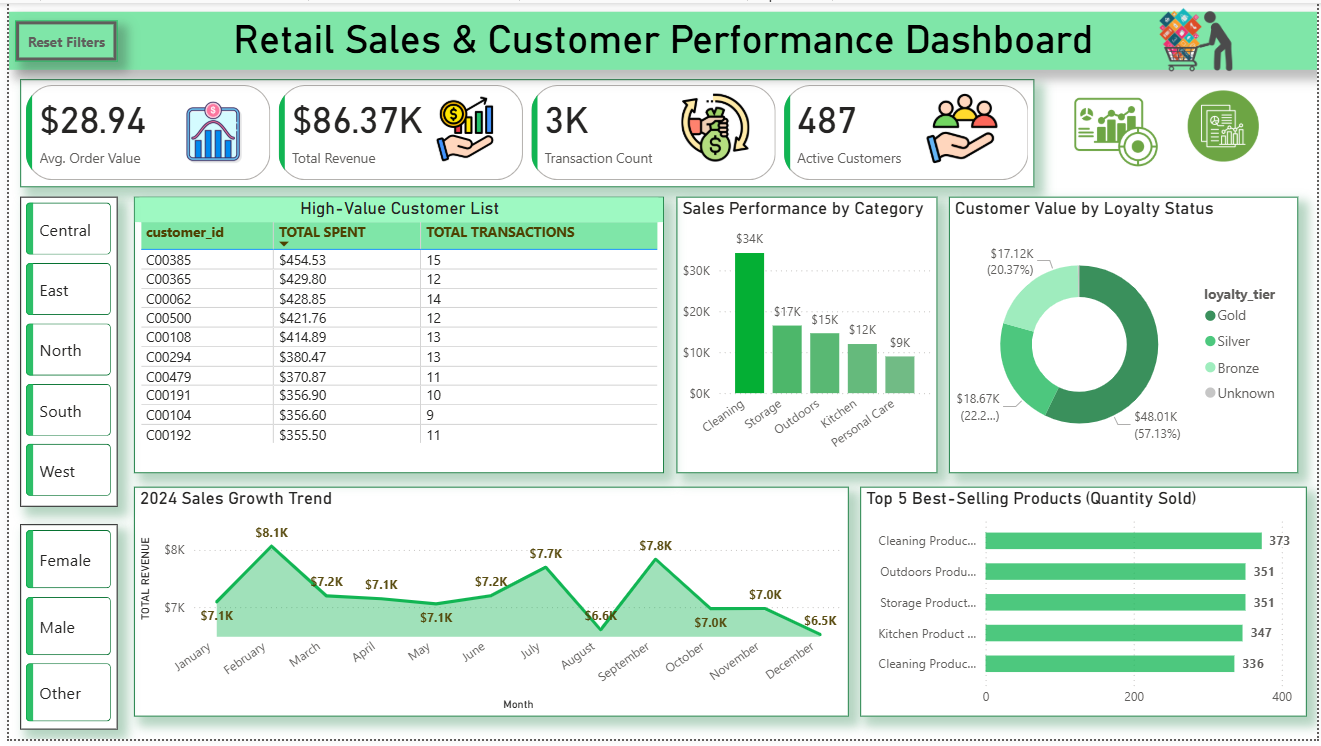

The page's visual inventory and layout, read from the dashboard file:
{"tool":"powerbi","page":{"name":"Dashboard","canvas":[1280,720],"ordinal":0},"visuals":[{"type":"cardVisual","fields":{"Data":["CALENDER.AVERAGE_ORDER_VALUE","CALENDER.TOTAL REVENUE","CALENDER.TOTAL_TRANSACTIONS","CALENDER.TOTAL_CUSTOMER"]},"box":[11.4,74,992.4,105.4],"z":0},{"type":"lineChart","title":"2024 Sales Growth Trend ","fields":{"Category":["CALENDER.Date.Variation.Date Hierarchy.Month"],"Y":["CALENDER.TOTAL REVENUE"]},"box":[122.4,472.7,699.1,225],"z":1000},{"type":"columnChart","title":" Sales Performance by Category","fields":{"Category":["product_info.category"],"Y":["CALENDER.TOTAL REVENUE"]},"box":[653.5,189.4,254.9,270.5],"z":2000},{"type":"textbox","box":[0,8.4,1280,56.7],"z":3000},{"type":"image","box":[1083.5,0,135.3,74],"z":4000},{"type":"donutChart","title":" Customer Value by Loyalty Status","fields":{"Category":["customer_info.loyalty_tier"],"Y":["CALENDER.TOTAL REVENUE"]},"box":[919.8,189.4,341.7,270.5],"z":5000},{"type":"clusteredBarChart","title":"Top 5 Best-Selling Products (Quantity Sold)","fields":{"Category":["product_info.product_name"],"Y":["CALENDER.QUANTITY_SOLD"]},"box":[832.9,472.7,437.1,225],"z":6000},{"type":"tableEx","title":"High-Value Customer List","fields":{"Values":["sales_data.customer_id","CALENDER.TOTAL REVENUE","CALENDER.TOTAL_TRANSACTIONS"]},"box":[122.4,189.4,518.3,270.5],"z":7000},{"type":"advancedSlicerVisual","fields":{"Values":["customer_info.gender"]},"box":[11.4,509.7,95.4,200.8],"z":8000},{"type":"advancedSlicerVisual","fields":{"Values":["sales_data.region"]},"box":[11.4,189.4,95.4,303.3],"z":9000},{"type":"actionButton","box":[6.1,17.1,100.3,40.4],"z":10000},{"type":"image","box":[1017.4,80.7,130.8,91.7],"z":11000},{"type":"image","box":[1148.2,80.7,79.5,79.5],"z":12000},{"type":"image","box":[163.9,90.5,73.4,72.1],"z":13000},{"type":"image","box":[409.6,86.8,73.4,73.4],"z":14000},{"type":"image","box":[653,80.7,75.8,81.9],"z":14001},{"type":"image","box":[892.7,83.2,79.5,79.5],"z":14002}]}

Visuals, with their boxes in screenshot pixels (x1, y1, x2, y2), scaled from the page's 1280x720 canvas onto the 1321x746 screenshot:
cardVisual - CALENDER.AVERAGE_ORDER_VALUE x CALENDER.TOTAL REVENUE: (12, 77, 1036, 186)
"2024 Sales Growth Trend " lineChart: (126, 490, 848, 723)
" Sales Performance by Category" columnChart: (674, 196, 937, 477)
textbox: (0, 9, 1320, 67)
image: (1118, 0, 1258, 77)
" Customer Value by Loyalty Status" donutChart: (949, 196, 1302, 477)
"Top 5 Best-Selling Products (Quantity Sold)" clusteredBarChart: (860, 490, 1311, 723)
"High-Value Customer List" tableEx: (126, 196, 661, 477)
advancedSlicerVisual - customer_info.gender: (12, 528, 110, 736)
advancedSlicerVisual - sales_data.region: (12, 196, 110, 510)
actionButton: (6, 18, 110, 60)
image: (1050, 84, 1185, 179)
image: (1185, 84, 1267, 166)
image: (169, 94, 245, 168)
image: (423, 90, 498, 166)
image: (674, 84, 752, 168)
image: (921, 86, 1003, 169)
